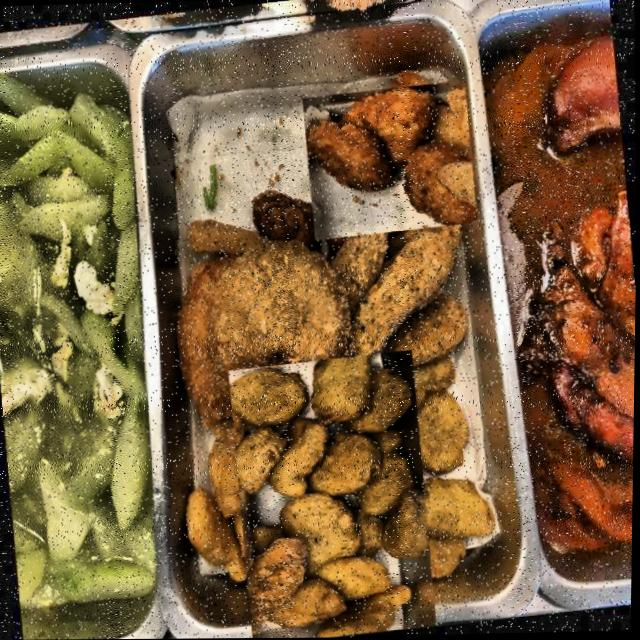Food: (203, 371, 464, 631), (305, 75, 476, 245)
